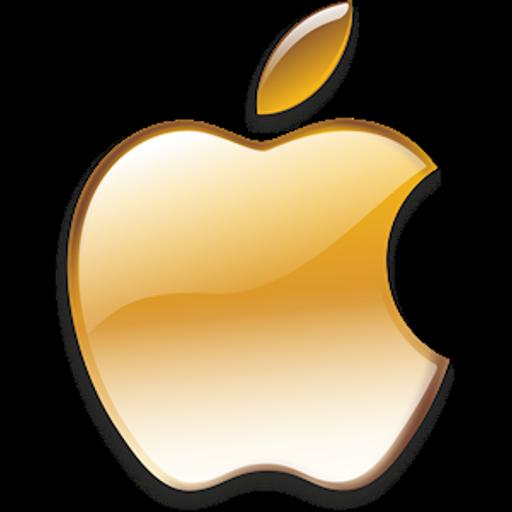Apple: (54, 0, 458, 512)
